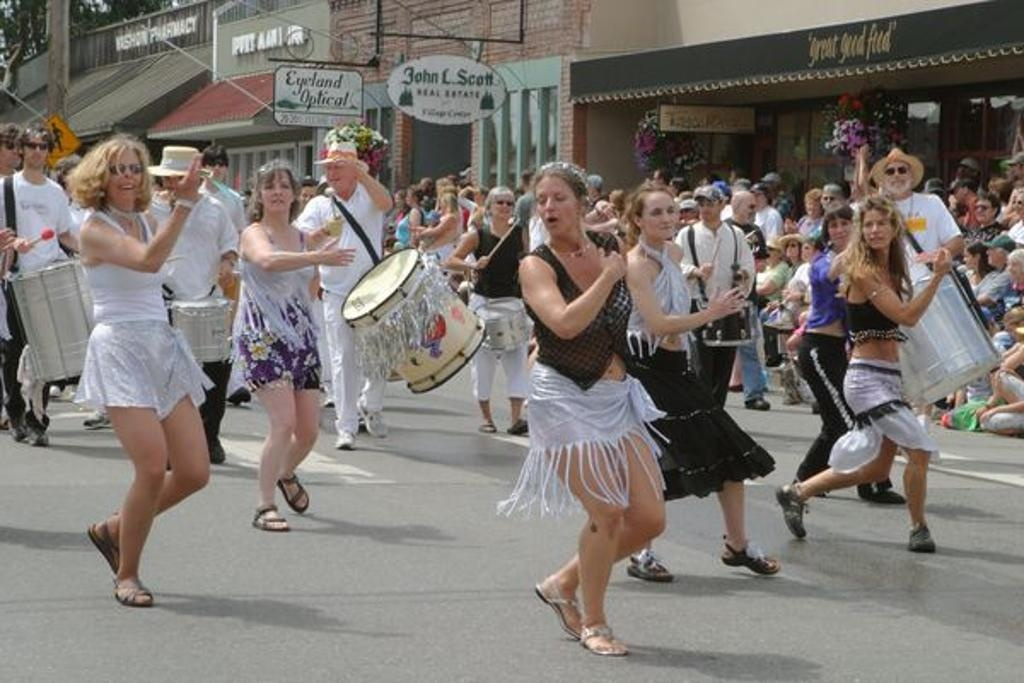human_face: (534, 177, 580, 236), (106, 150, 140, 200), (640, 190, 676, 236), (259, 171, 291, 211), (862, 207, 892, 247), (324, 158, 354, 192), (163, 164, 193, 197), (883, 158, 911, 192), (24, 133, 48, 167), (828, 214, 852, 246), (2, 134, 20, 166), (491, 196, 513, 220), (698, 196, 718, 220), (206, 159, 226, 181), (298, 186, 318, 208), (821, 190, 841, 211), (736, 199, 754, 222), (974, 199, 992, 222), (1006, 259, 1022, 277), (929, 187, 945, 205), (764, 242, 778, 262), (1006, 319, 1020, 339), (978, 316, 992, 336), (804, 197, 818, 215), (986, 246, 1000, 264), (952, 184, 966, 202), (1012, 193, 1024, 213), (680, 206, 694, 223), (786, 239, 798, 258), (801, 242, 815, 258), (750, 190, 764, 206), (958, 161, 970, 177), (764, 180, 776, 196), (963, 248, 973, 266), (652, 172, 662, 189), (729, 170, 739, 186), (1008, 158, 1018, 174), (406, 188, 416, 202), (755, 256, 765, 270), (668, 180, 678, 194), (438, 197, 448, 209), (473, 189, 481, 201), (394, 195, 400, 205), (420, 180, 426, 190)
